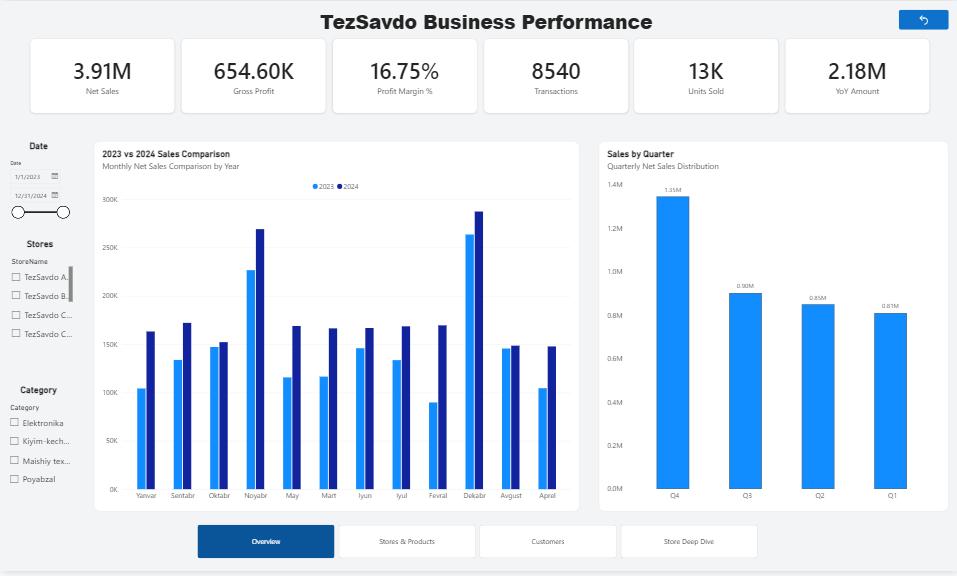

This screenshot's page, from the dashboard's own definition file:
{"tool":"powerbi","page":{"name":"Overview","canvas":[1920,1140],"ordinal":0},"visuals":[{"type":"group","id":"g1","title":"Group 1","box":[60.6,75.7,1800.6,149.3],"z":0},{"type":"card","fields":{"Values":["TabelMeasures.Net Sales"]},"box":[60.6,75.7,290,149.3],"z":0,"group":"g1"},{"type":"card","fields":{"Values":["TabelMeasures.Gross Profit"]},"box":[362.7,75.7,290,149.3],"z":1000,"group":"g1"},{"type":"slicer","title":"Date","fields":{"Values":["Dim_Calendar.Date"]},"box":[13.3,280,129.8,192.6],"z":1000},{"type":"card","fields":{"Values":["TabelMeasures.Profit Margin %"]},"box":[664.8,75.7,290,149.3],"z":2000,"group":"g1"},{"type":"clusteredColumnChart","title":"Sales by Quarter","fields":{"Category":["Dim_Calendar.Quarter"],"Y":["TabelMeasures.Net Sales"]},"box":[1197.7,280.8,699.1,741.2],"z":2000},{"type":"card","fields":{"Values":["TabelMeasures.Transactions"]},"box":[966.9,75.7,290,149.3],"z":3000,"group":"g1"},{"type":"clusteredColumnChart","title":"2023 vs 2024 Sales Comparison","fields":{"Category":["Dim_Calendar.Month"],"Series":["Dim_Calendar.Year"],"Y":["TabelMeasures.Net Sales"]},"box":[187.2,280.8,972.3,741.2],"z":3000},{"type":"slicer","title":"Category","fields":{"Values":["Dim_Product.Category"]},"box":[13.3,766.7,129.8,218.6],"z":3000},{"type":"textbox","box":[60,15,1825,85],"z":4000},{"type":"card","fields":{"Values":["TabelMeasures.Units Sold"]},"box":[1269.1,75.7,290,149.3],"z":4000,"group":"g1"},{"type":"card","fields":{"Values":["TabelMeasures.YoY Amount"]},"box":[1571.2,75.7,290,149.3],"z":5000,"group":"g1"},{"type":"slicer","title":"Stores","fields":{"Values":["Dim_Store.StoreName"]},"box":[14,476,130,220],"z":5000},{"type":"actionButton","box":[1797.5,17.5,100,40],"z":6000},{"type":"pageNavigator","box":[395,1047.5,1120,67],"z":7000}]}

Visuals, with their boxes in screenshot pixels (x1, y1, x2, y2), scaled from the page's 1920x1140 canvas onto the 957x576 screenshot:
"Group 1" group: x1=30 y1=38 x2=928 y2=114
card - TabelMeasures.Net Sales: x1=30 y1=38 x2=175 y2=114
card - TabelMeasures.Gross Profit: x1=181 y1=38 x2=325 y2=114
"Date" slicer: x1=7 y1=141 x2=71 y2=239
card - TabelMeasures.Profit Margin %: x1=331 y1=38 x2=476 y2=114
"Sales by Quarter" clusteredColumnChart: x1=597 y1=142 x2=945 y2=516
card - TabelMeasures.Transactions: x1=482 y1=38 x2=626 y2=114
"2023 vs 2024 Sales Comparison" clusteredColumnChart: x1=93 y1=142 x2=578 y2=516
"Category" slicer: x1=7 y1=387 x2=71 y2=498
textbox: x1=30 y1=8 x2=940 y2=51
card - TabelMeasures.Units Sold: x1=633 y1=38 x2=777 y2=114
card - TabelMeasures.YoY Amount: x1=783 y1=38 x2=928 y2=114
"Stores" slicer: x1=7 y1=241 x2=72 y2=352
actionButton: x1=896 y1=9 x2=946 y2=29
pageNavigator: x1=197 y1=529 x2=755 y2=563
